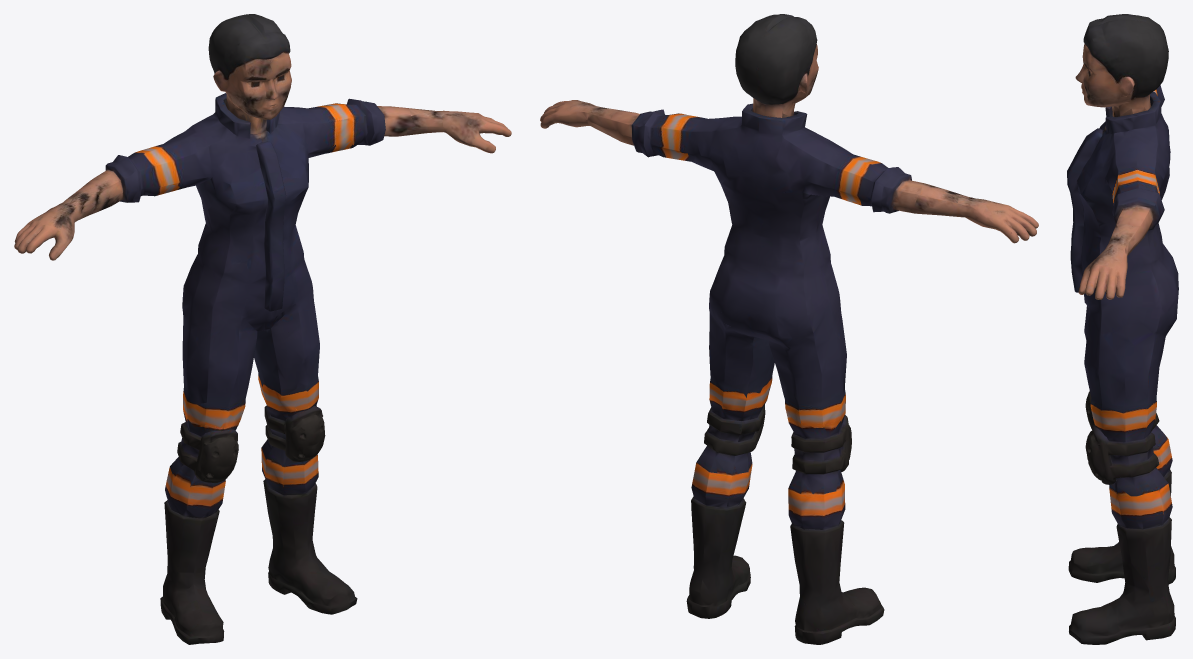
The model's file is char_free_f_denim_idle.glb.
The picture shows the model from 3 angles, left to right: view 1: azimuth 30°, elevation 25°; view 2: azimuth 150°, elevation 25°; view 3: azimuth 270°, elevation 25°; orthographic projection.
Parts seen in each view (by area): view 1: tripo_node_d3eda982-3496-499c-aff4-69a0e00b07f2; view 2: tripo_node_d3eda982-3496-499c-aff4-69a0e00b07f2; view 3: tripo_node_d3eda982-3496-499c-aff4-69a0e00b07f2.
Part boxes in pixels (x1,y1,x2,y2): tripo_node_d3eda982-3496-499c-aff4-69a0e00b07f2: (14,14,511,644); tripo_node_d3eda982-3496-499c-aff4-69a0e00b07f2: (540,14,1038,644); tripo_node_d3eda982-3496-499c-aff4-69a0e00b07f2: (1067,14,1178,644).
Size of the model in its own units: 1.46 by 1.68 by 0.2901.
Materials: 1 (1 with a texture image).
